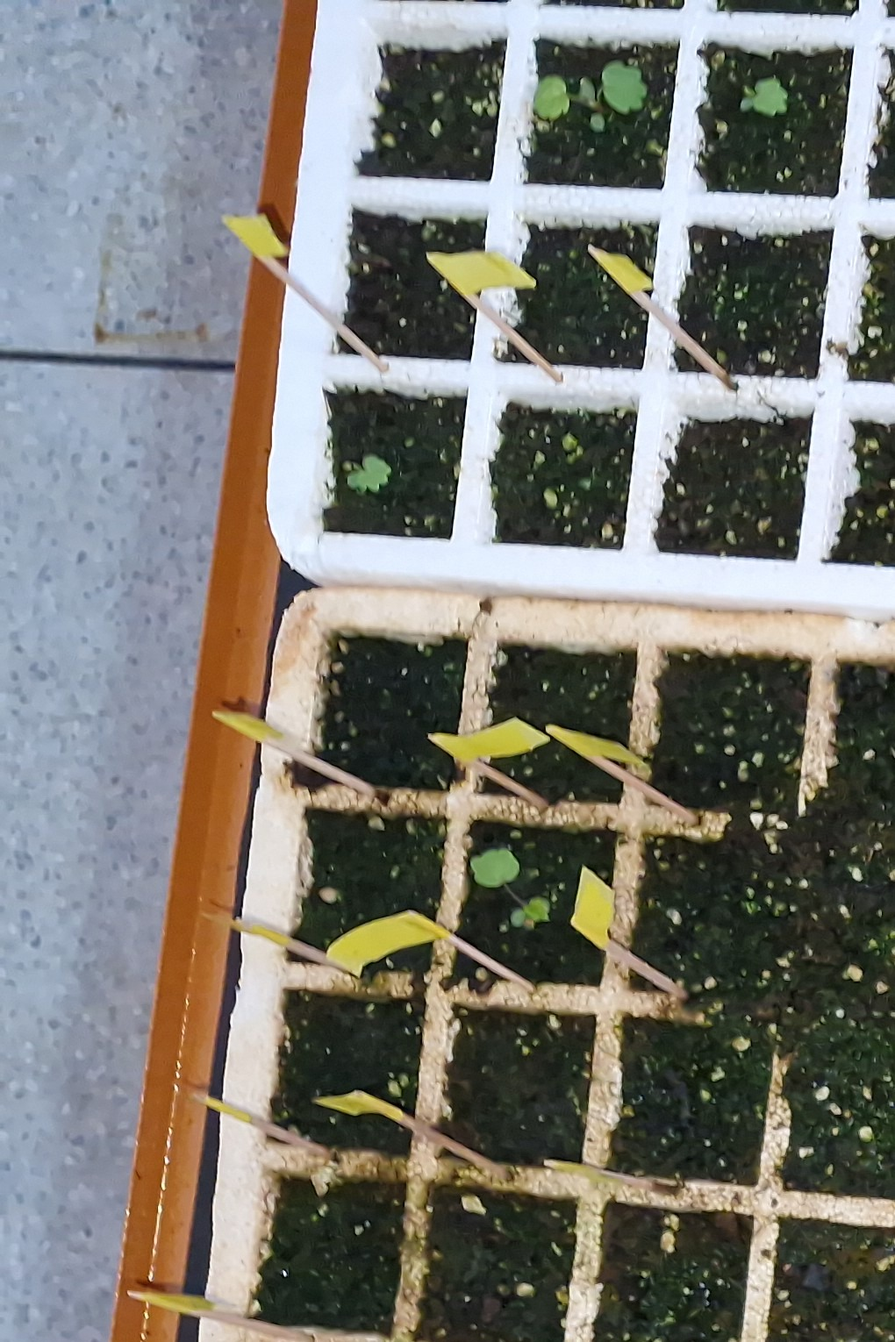Folha: (471, 848, 519, 888), (523, 897, 550, 922), (511, 908, 526, 927)
Germinacao: (471, 848, 550, 927)
